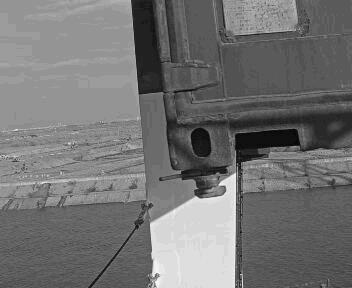twist_lock_1: (193, 159, 254, 204)
